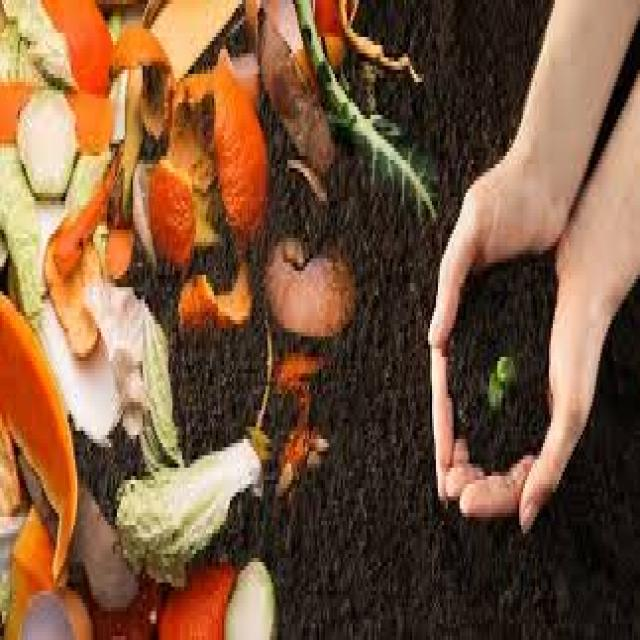Wet: (3, 293, 84, 581), (118, 456, 260, 582), (211, 40, 268, 235), (34, 202, 98, 360), (45, 0, 122, 99), (150, 144, 196, 265), (176, 268, 252, 339)
